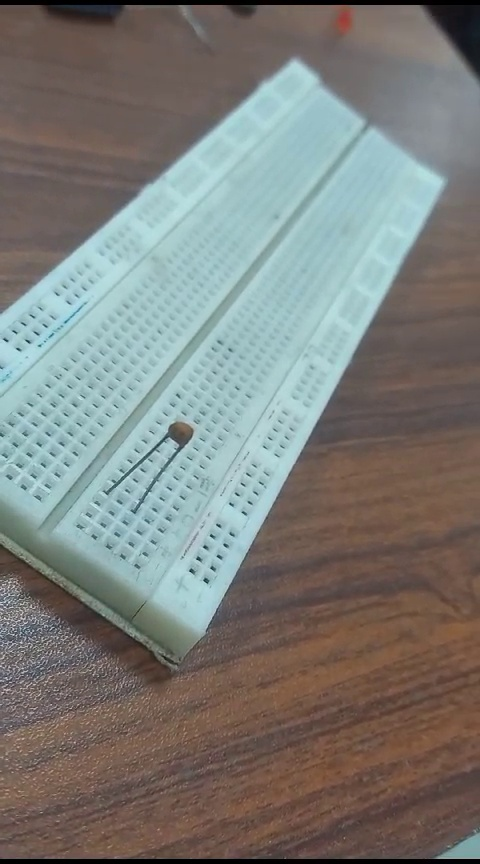ceramic capacitor: (96, 408, 190, 511)
